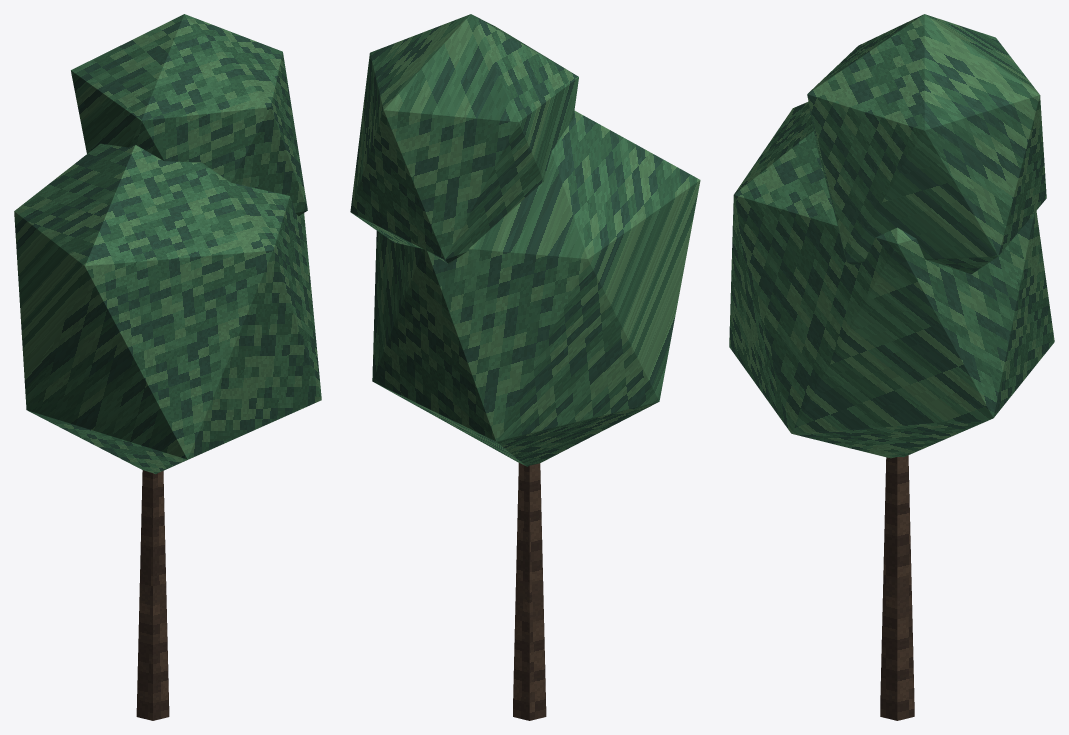
Rendered from ENV_C_TreeRound.fbx.
3 views of the same model, side by side, from view 1: azimuth 30°, elevation 25°; view 2: azimuth 150°, elevation 25°; view 3: azimuth 270°, elevation 25° (orthographic). The views are drawn at different scales.
Parts seen in each view (by area): view 1: ENV_C_TreeRound; view 2: ENV_C_TreeRound; view 3: ENV_C_TreeRound.
Part boxes in pixels (x1=…): ENV_C_TreeRound: x1=14, y1=14, x2=321, y2=720; ENV_C_TreeRound: x1=350, y1=14, x2=700, y2=720; ENV_C_TreeRound: x1=729, y1=14, x2=1054, y2=720.
Size of the model in its own units: 371 by 880 by 360.
2 materials, 2 textured.
